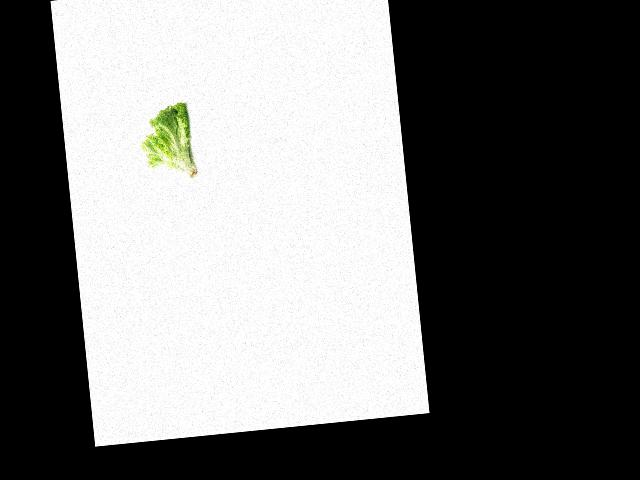lettuce: (136, 101, 199, 184)
